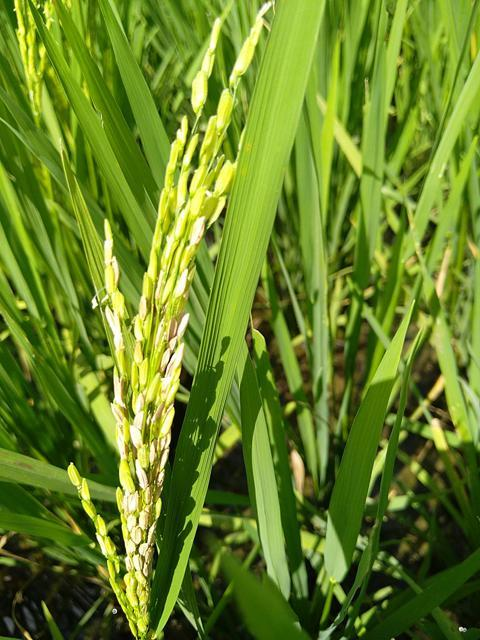Panicle Blight: (133, 372, 181, 580), (161, 318, 186, 370)
